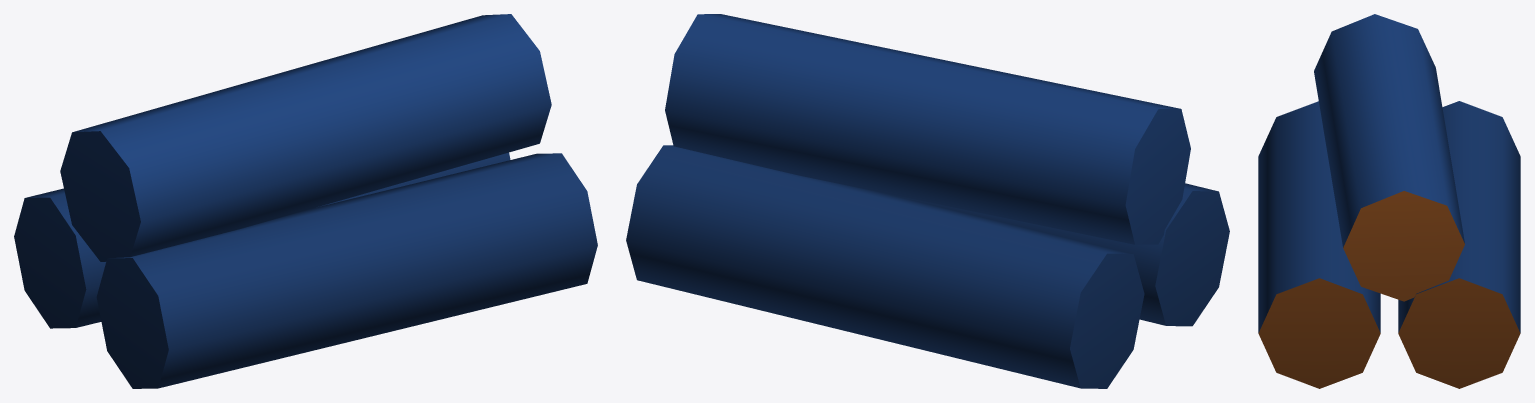
Rendered from superconductor.glb.
3 renders of one model, left to right at view 1: azimuth 30°, elevation 25°; view 2: azimuth 150°, elevation 25°; view 3: azimuth 270°, elevation 25°, orthographic. The views are drawn at different scales.
Visible parts, largest first — view 1: superconductor; view 2: superconductor; view 3: superconductor.
Boxes of the visible parts, x1,y1,x2,y2 form: superconductor: (14, 14, 597, 388); superconductor: (626, 14, 1229, 388); superconductor: (1258, 14, 1520, 388).
Bounding box in the file's own units: 0.2443 × 0.125 × 0.15.
